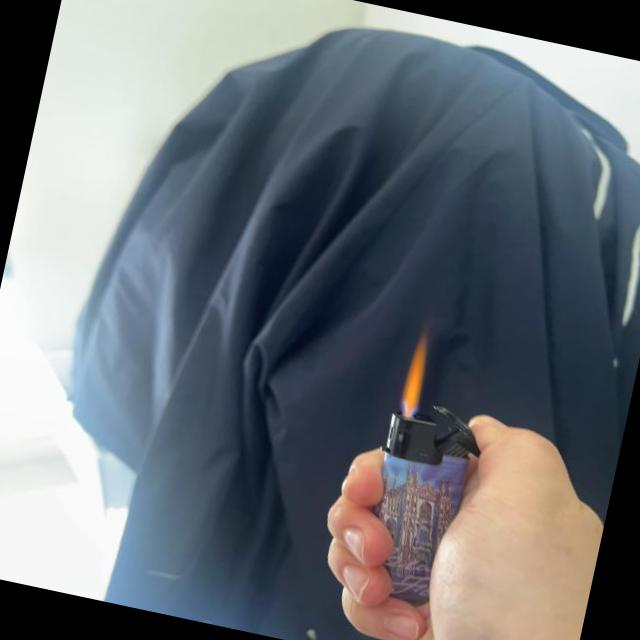Fire: (397, 332, 436, 412)
